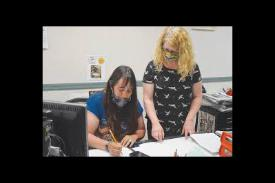mask_weared_incorrect: (116, 85, 133, 104)
with_mask: (163, 46, 178, 61)
